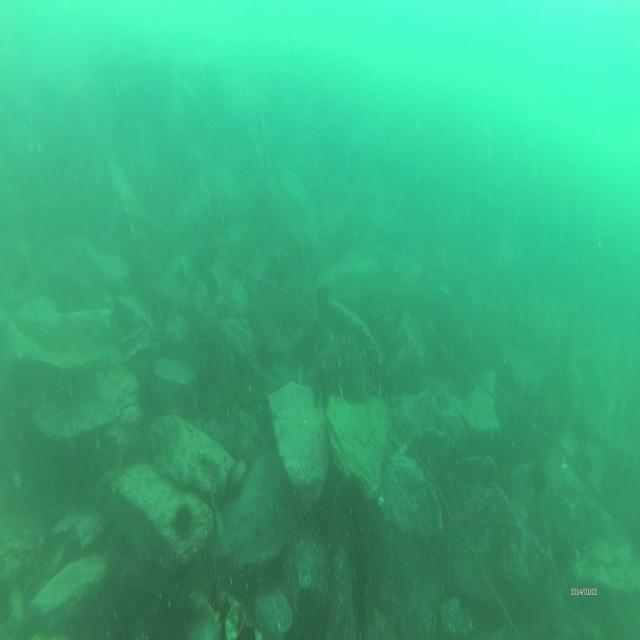echinus: (171, 501, 195, 541)
